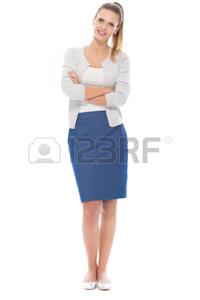person: (73, 6, 138, 87)
